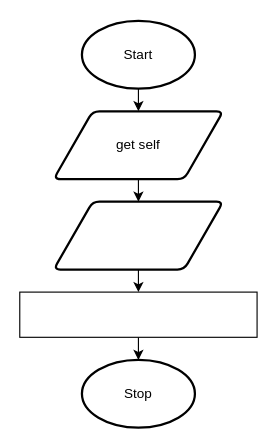
Some shapes in this 277 by 447 pixel diagram are drawn without their labels. The shapes that lost their labels are listed below. From the top down, each one's centre as x and y in pixels, then its label:
At (138,235): "get pushed_num".
At (138,314): "self.stack_list.append(pushed_num)".
